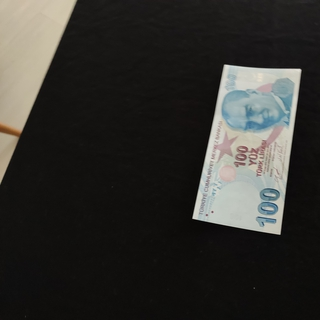100TLFront: (192, 63, 302, 235)
